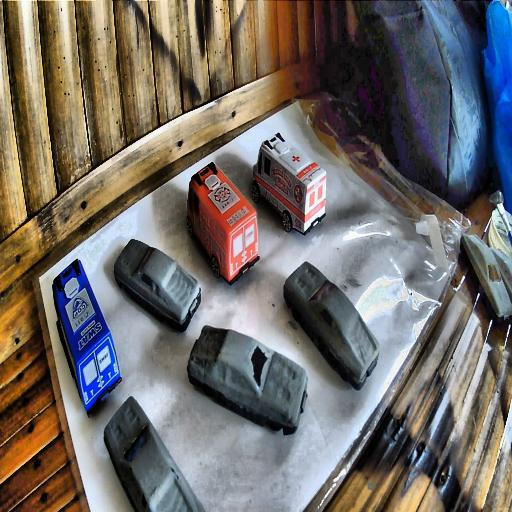ambulance: (253, 130, 325, 236)
fire_truck: (186, 160, 259, 282)
normal_car: (188, 328, 305, 436), (104, 395, 208, 511), (284, 262, 378, 388), (114, 240, 202, 334)
police car: (52, 258, 122, 414)
